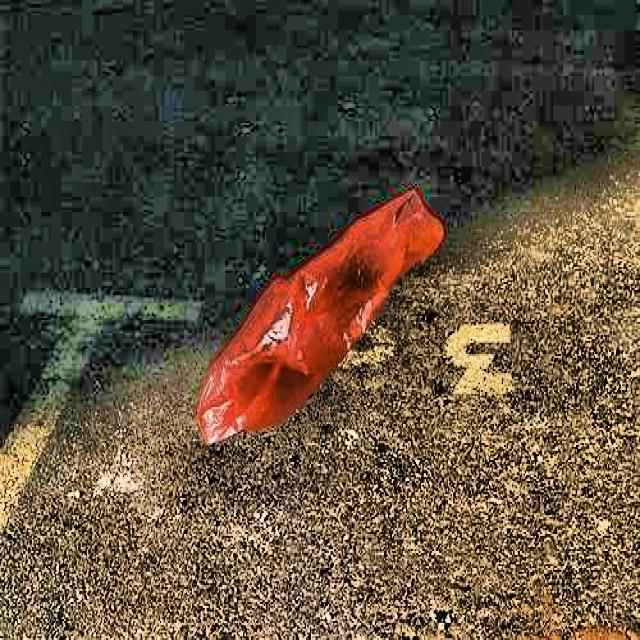Plastic: (193, 177, 455, 468)
